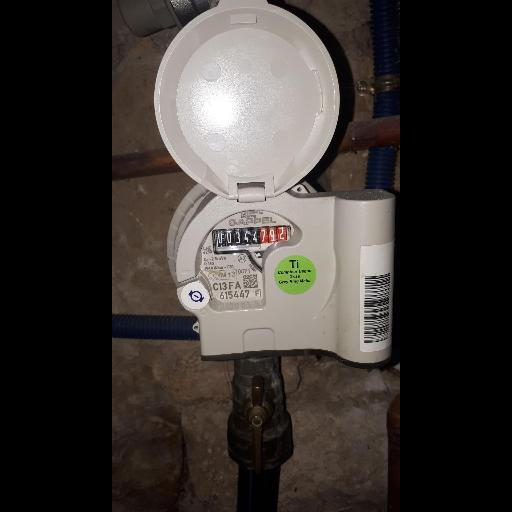0: (216, 229, 224, 247), (225, 230, 233, 247)
2: (277, 226, 286, 242)
3: (234, 228, 243, 246)
4: (242, 227, 250, 245), (251, 228, 259, 245)
7: (259, 227, 267, 244)
9: (268, 227, 277, 244)
border_water_meter_number: (212, 225, 293, 256)
